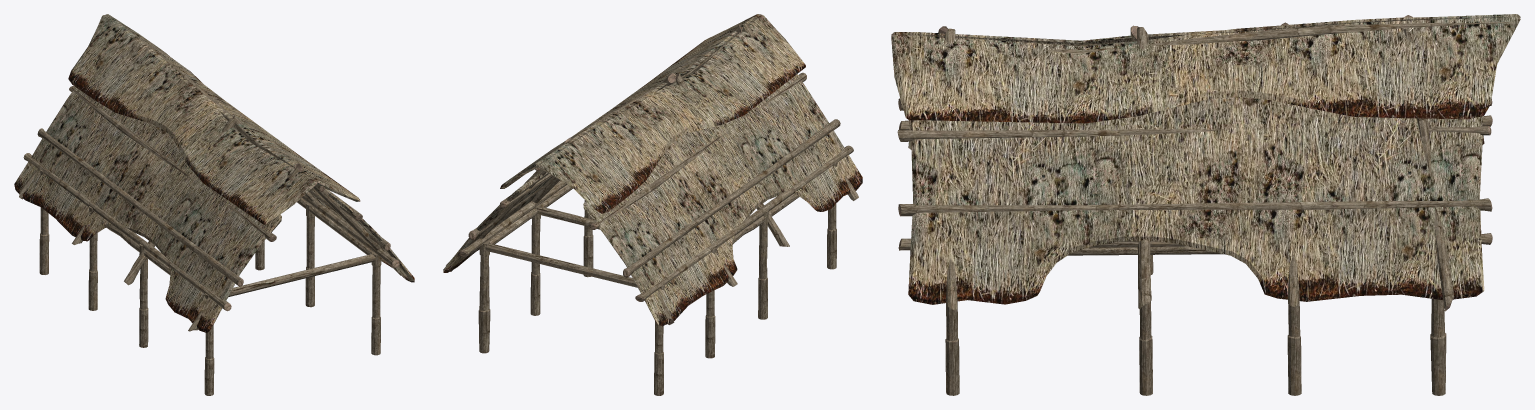
The model's file is TW2_1_HUT_05_4-transformed.glb.
3 views of the same model, side by side, from view 1: azimuth 30°, elevation 25°; view 2: azimuth 150°, elevation 25°; view 3: azimuth 270°, elevation 25° (orthographic). The views are drawn at different scales.
Visible parts, largest first — view 1: default; view 2: default; view 3: default.
Boxes of the visible parts, bbox=[...] form: default: bbox=[14, 14, 414, 395]; default: bbox=[443, 14, 862, 395]; default: bbox=[891, 14, 1520, 395].
Size of the model in its own units: 4.81 by 4.49 by 7.99.
Materials: 3 (3 with a texture image).
